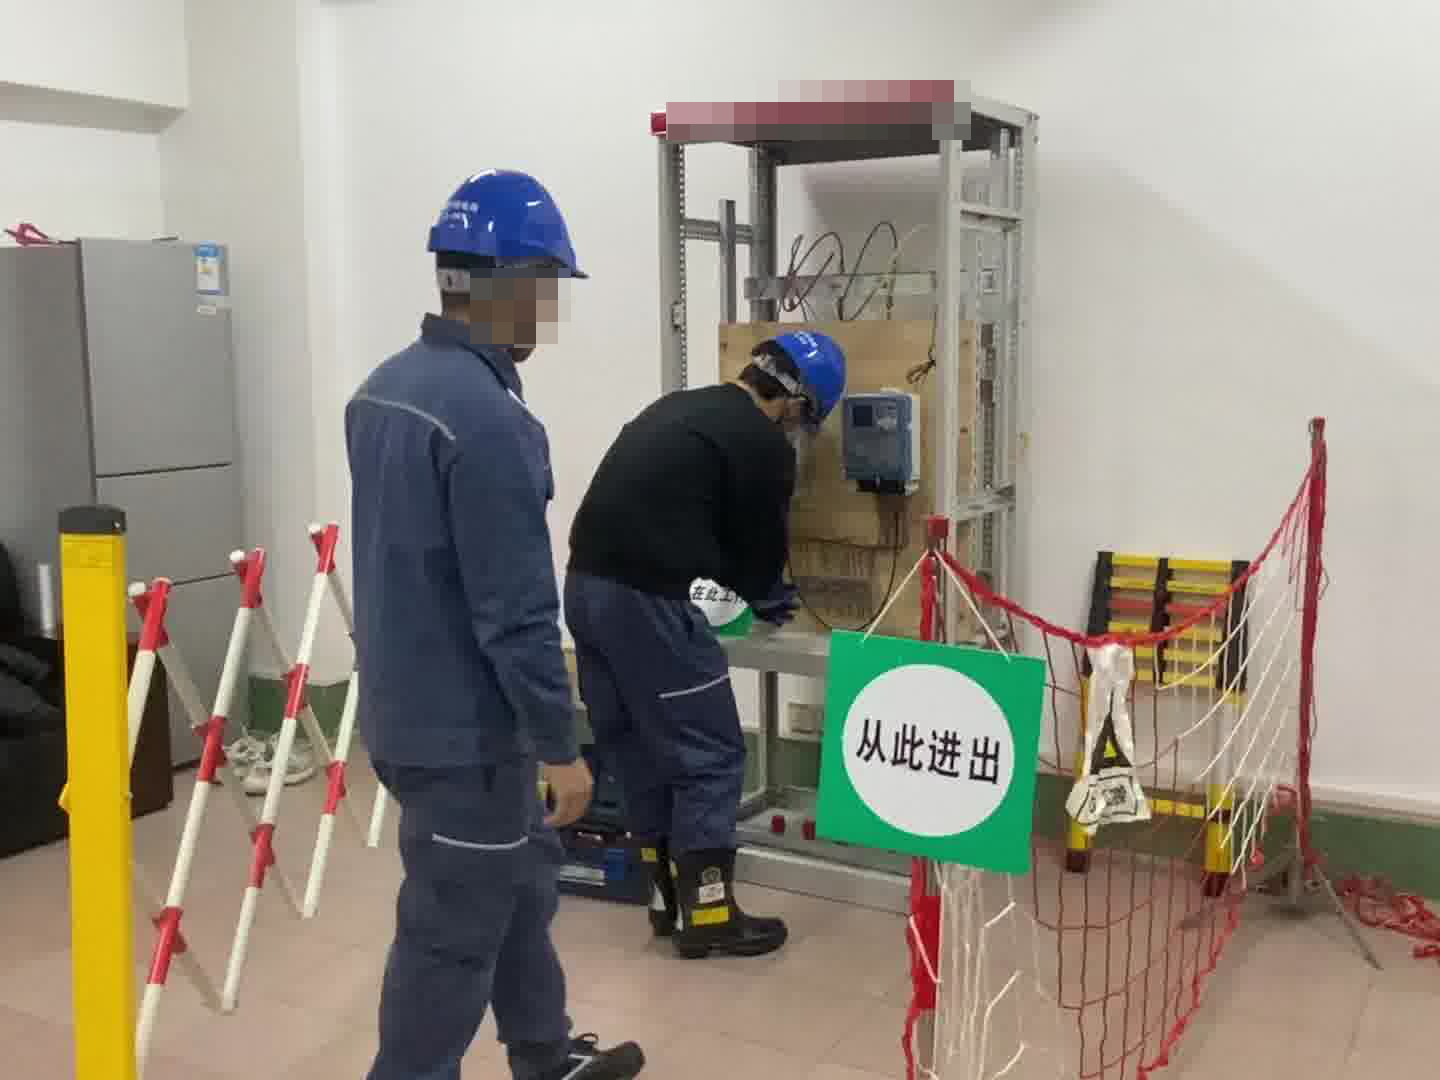downsuit: (356, 770, 586, 1080), (569, 584, 748, 852)
halt: (421, 165, 590, 361), (736, 328, 849, 441)
hand: (538, 761, 597, 826)
inear: (505, 263, 547, 341), (766, 392, 809, 434)
intosign: (809, 619, 1050, 878)
person: (329, 160, 640, 1080), (563, 311, 848, 960)
shoe: (640, 835, 789, 961)
upcloth: (568, 380, 793, 605)
upsuit: (339, 312, 578, 755)
worksign: (682, 573, 760, 638)
